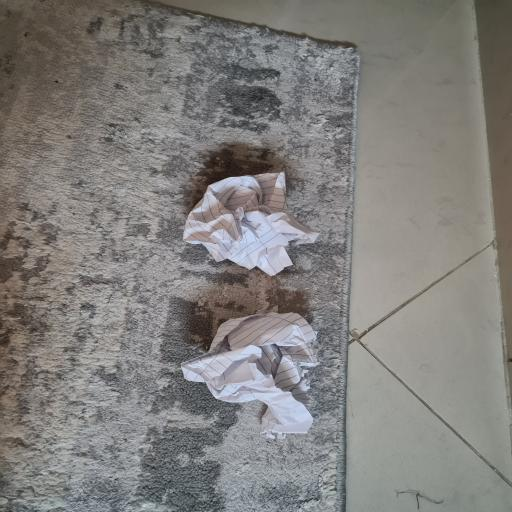Kertas: (182, 313, 319, 439), (184, 172, 319, 275)
